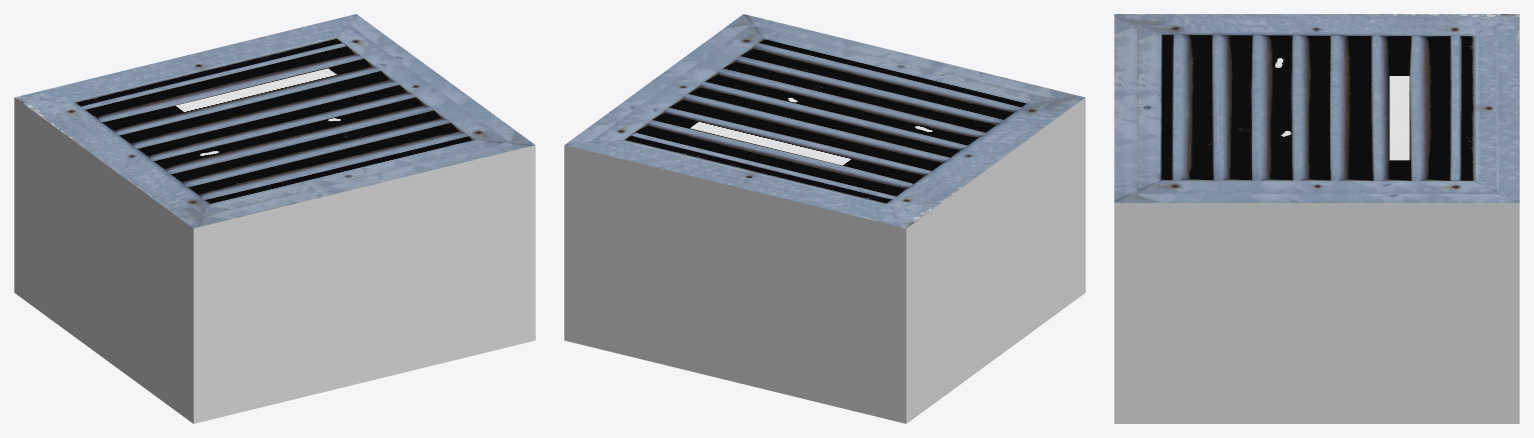
Rendered from vent_fan.glb.
The picture shows the model from 3 angles, left to right: view 1: azimuth 30°, elevation 25°; view 2: azimuth 150°, elevation 25°; view 3: azimuth 270°, elevation 25°; orthographic projection. The views are drawn at different scales.
Visible parts, largest first — view 1: Cube_Cube.001, Plane; view 2: Cube_Cube.001, Plane; view 3: Cube_Cube.001, Plane.
Boxes of the visible parts, x1,y1,x2,y2 form: Cube_Cube.001: (14, 14, 535, 423); Plane: (46, 25, 508, 215); Cube_Cube.001: (564, 14, 1085, 423); Plane: (591, 25, 1053, 215); Cube_Cube.001: (1114, 14, 1519, 423); Plane: (1137, 25, 1496, 193).
Bounding box in the file's own units: 2.58 × 1.41 × 2.34.
Materials: 5 (3 with a texture image).
